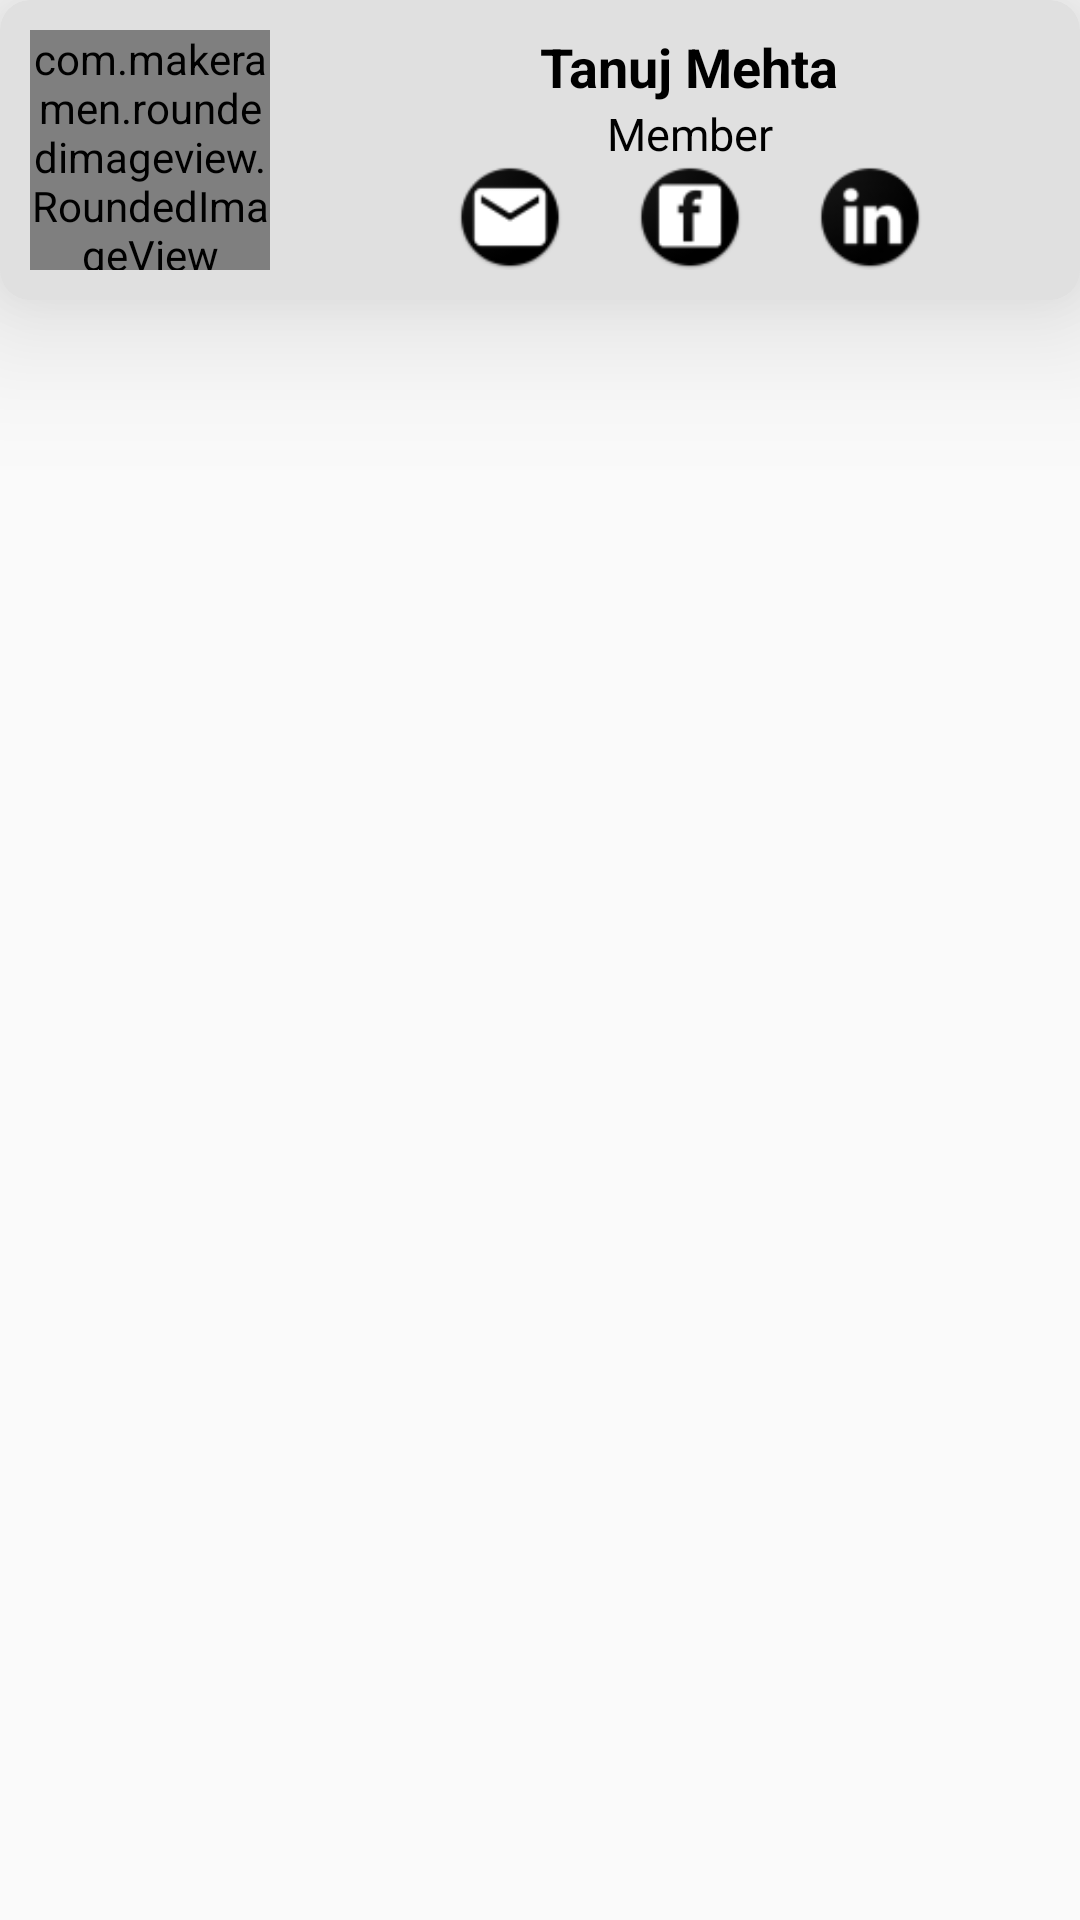

Where icons sit on this 1080w x 1920h app screen, as (x1, y1, x2, y2):
email: (460, 168, 560, 268)
